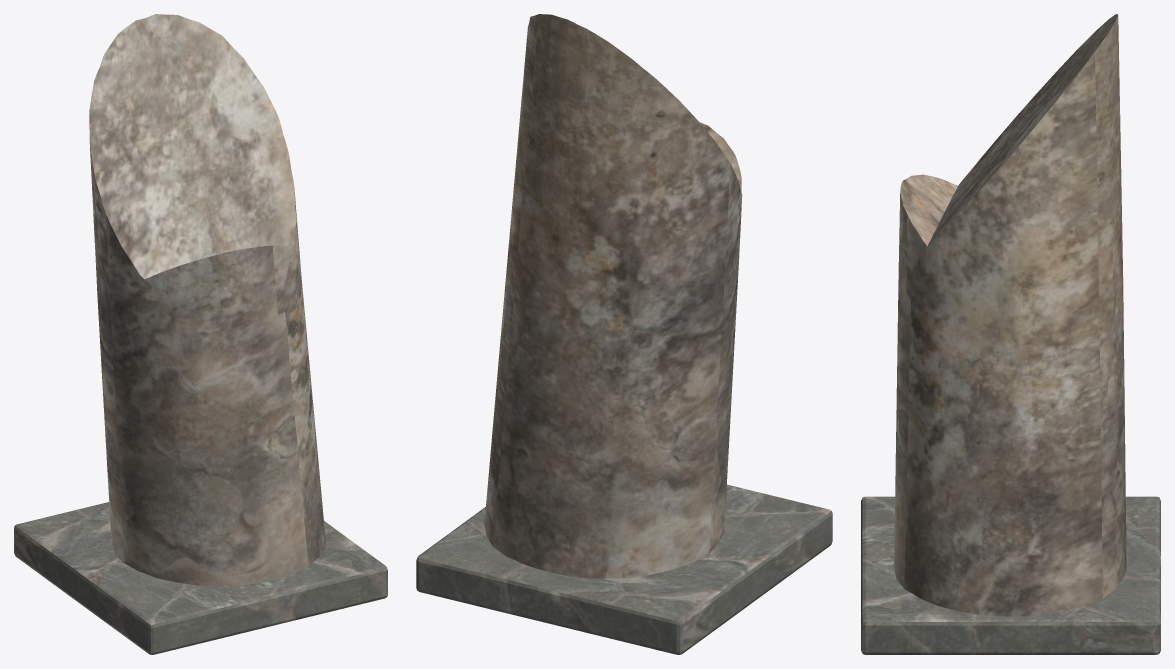
The model's file is pillar_b.glb.
3 renders of one model, left to right at view 1: azimuth 30°, elevation 25°; view 2: azimuth 150°, elevation 25°; view 3: azimuth 270°, elevation 25°, orthographic. The views are drawn at different scales.
Visible parts, largest first — view 1: pillar_b; view 2: pillar_b; view 3: pillar_b.
Part boxes in pixels (<box>): pillar_b: <box>14,14,387,654</box>; pillar_b: <box>416,14,832,654</box>; pillar_b: <box>861,14,1160,654</box>.
Size of the model in its own units: 0.474 by 1 by 0.474.
2 materials, 2 textured.
